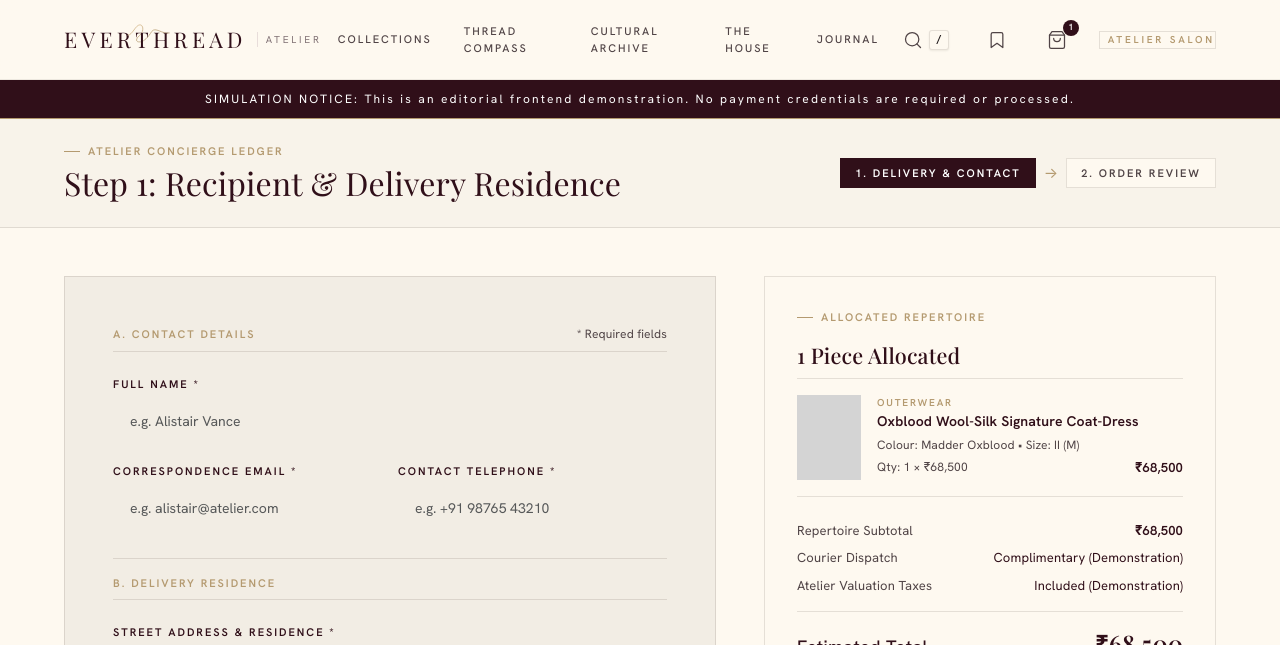
Test: EverThread Stage 3.6: Demo Concierge Checkout Suite › 3. Formatting Validation for Email, Phone, and Postal Code › rejects invalid email formats and shows descriptive error
Step 1. Type "invalid-email-string" into the field with test id "input-email" → (248, 508), box [113,483,382,534]
(page scrolled)
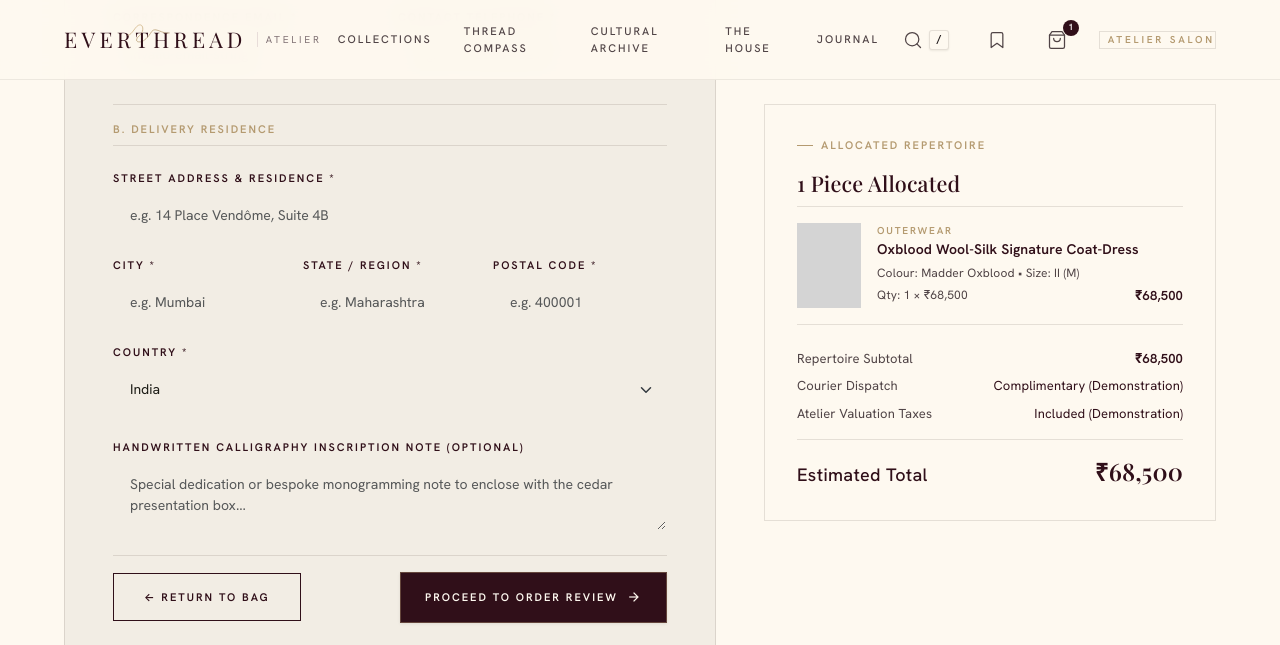
Step 2. Click the button with test id "proceed-to-review-btn" → (534, 597), box [400,572,667,622]
(page scrolled)
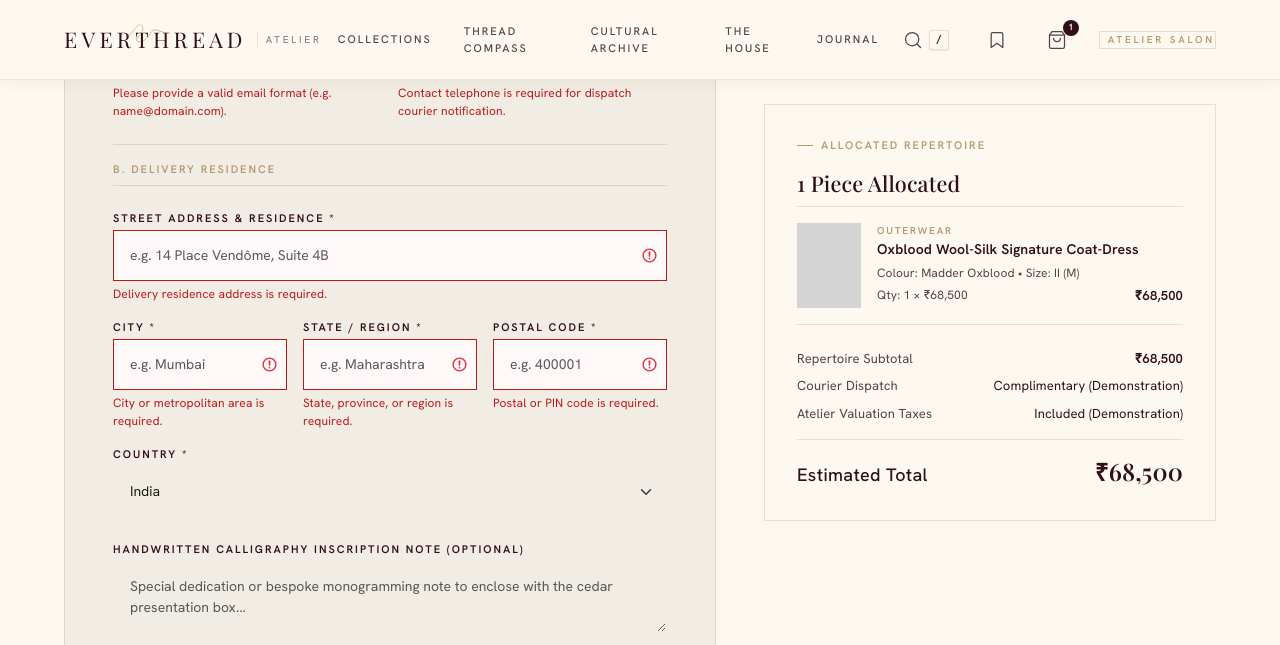
Check: the message with test id "error-email" shows "valid email format", box [113,85,332,119]
